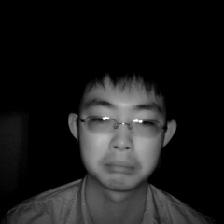sad: (68, 52, 179, 192)
